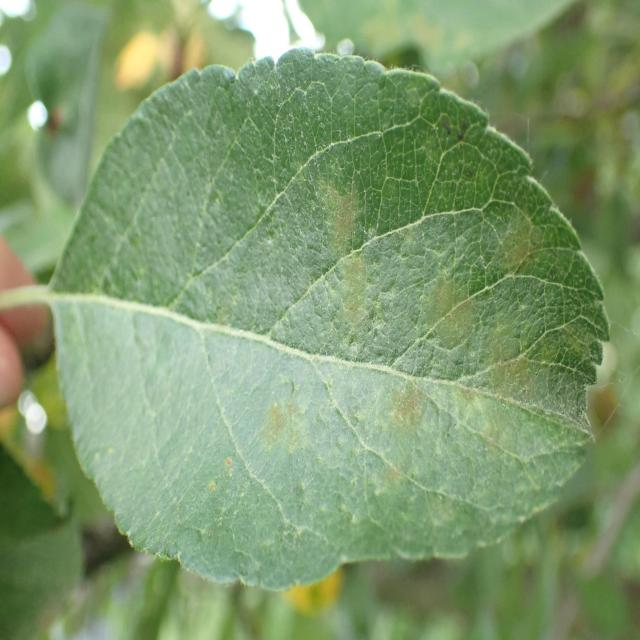scab: (93, 64, 592, 577)
